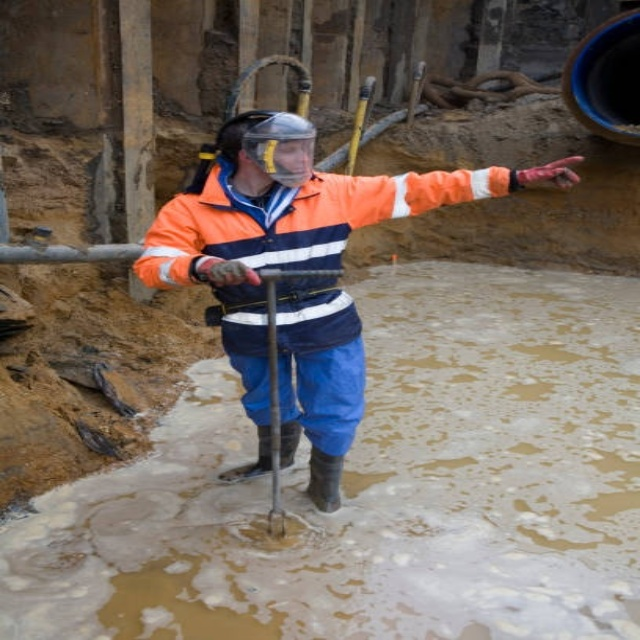Guantes: (513, 152, 590, 192), (204, 257, 262, 287)
